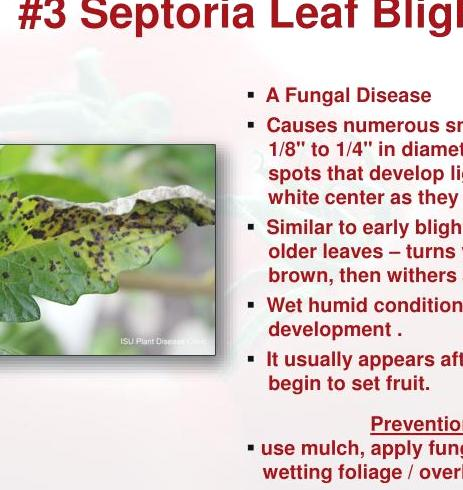Tomato Septoria leaf spot: (0, 180, 211, 334)
